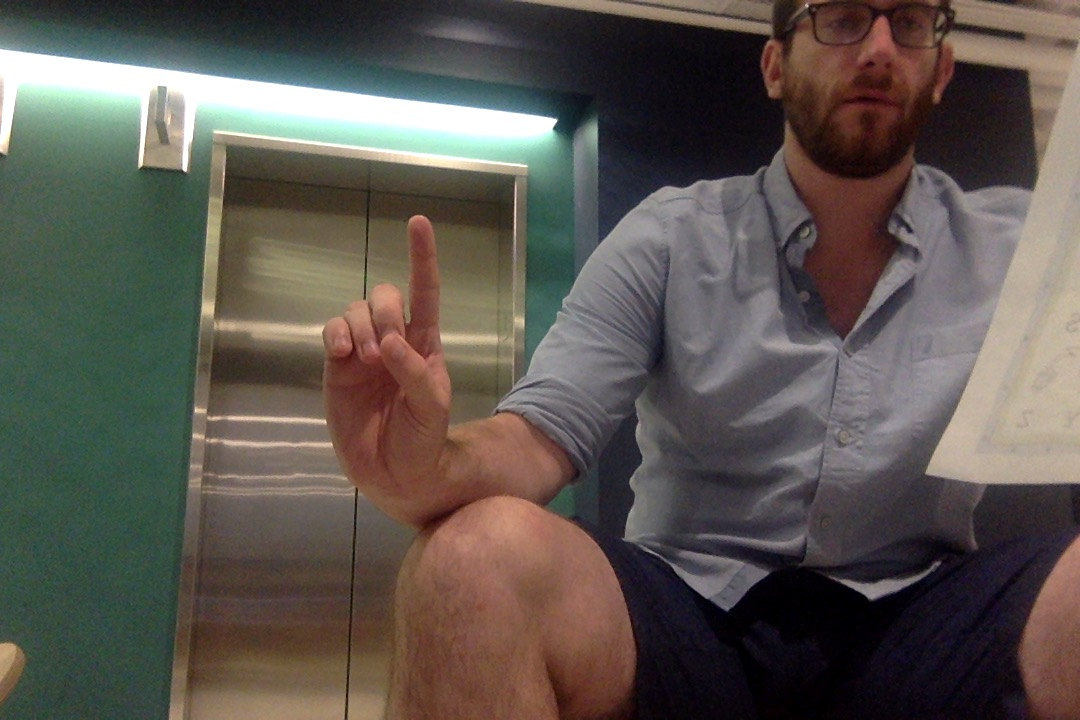d: (317, 214, 453, 484)
